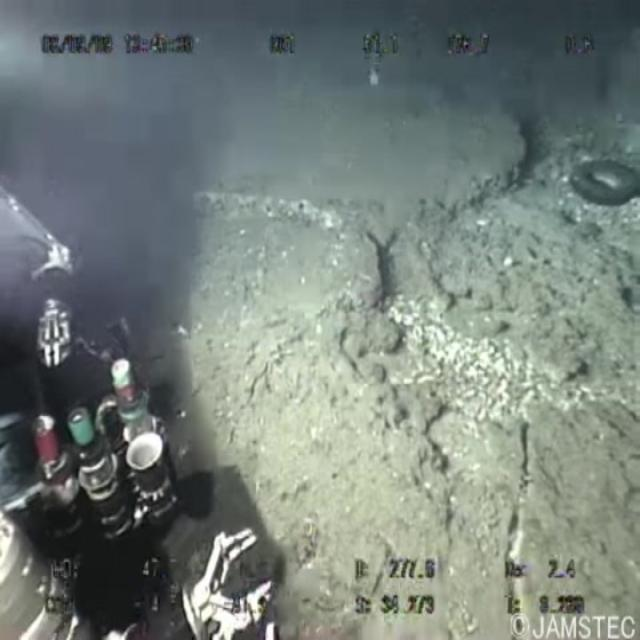Rubber: (551, 127, 640, 251)
